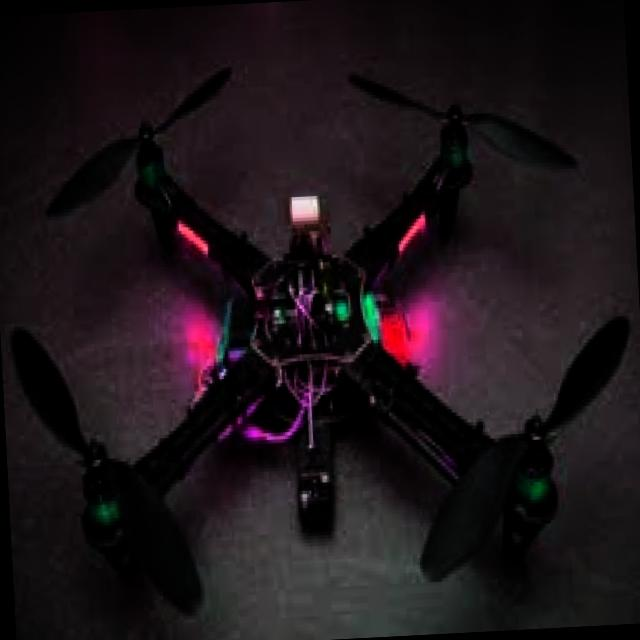drone: (1, 59, 625, 634)
